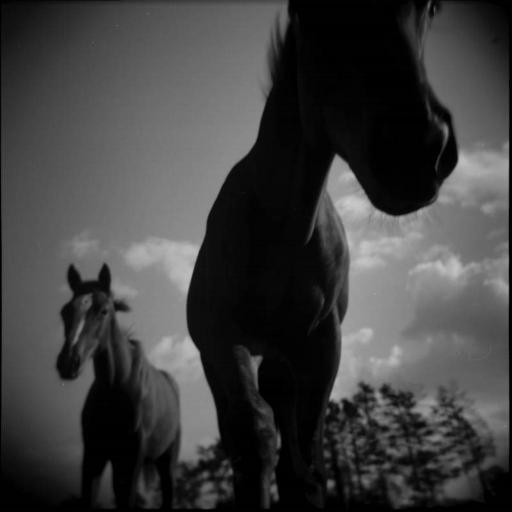horse: (186, 2, 460, 508), (56, 262, 178, 510)
